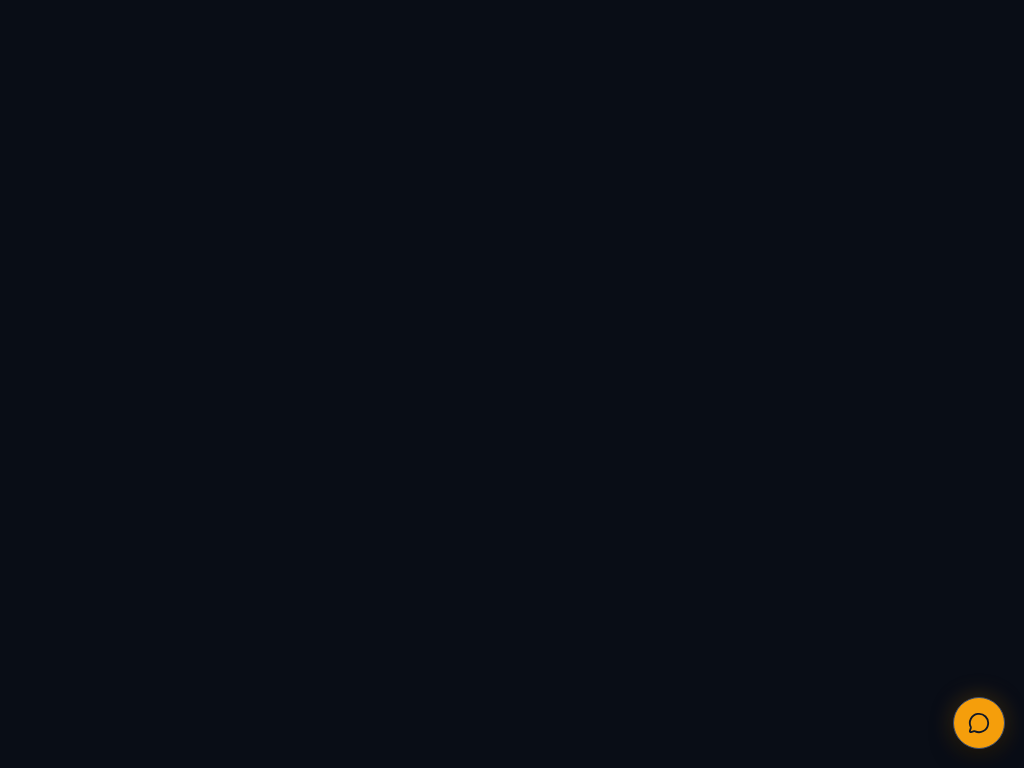
Test: AssistantWidget › posts thumbs up/down feedback with the conversationId and marks the choice
Click the button named "open assistant chat": click(979, 723) [953, 697, 1005, 749]
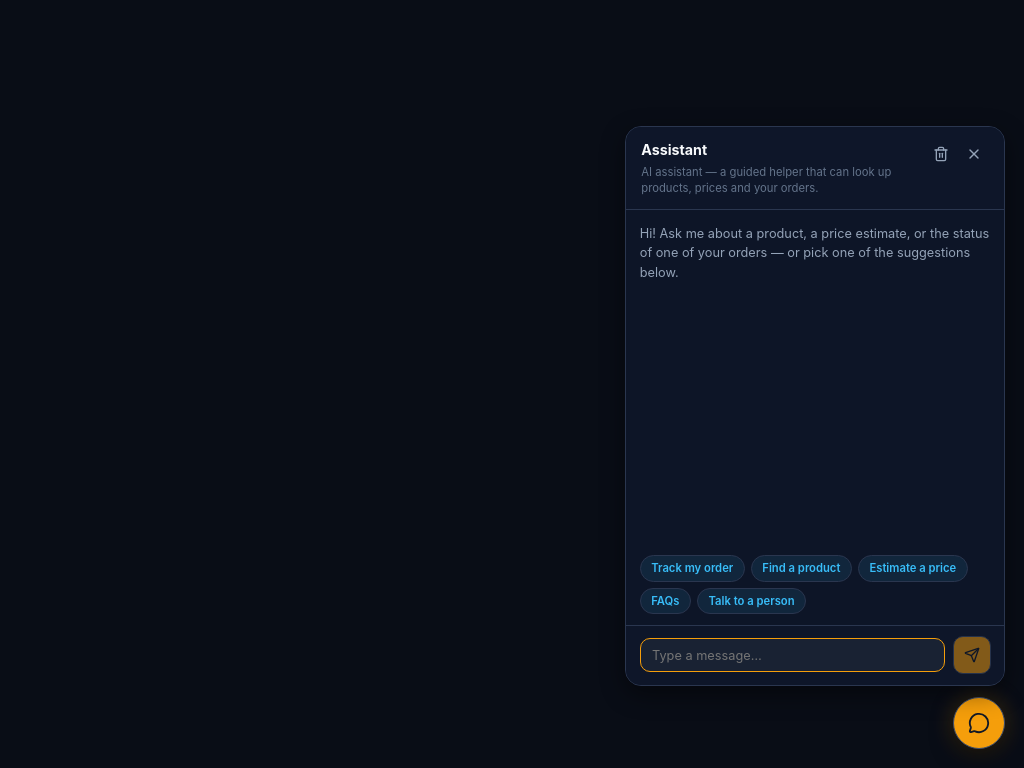
In the field named "message the assistant": (793, 655) [640, 638, 945, 672], type "Hello"
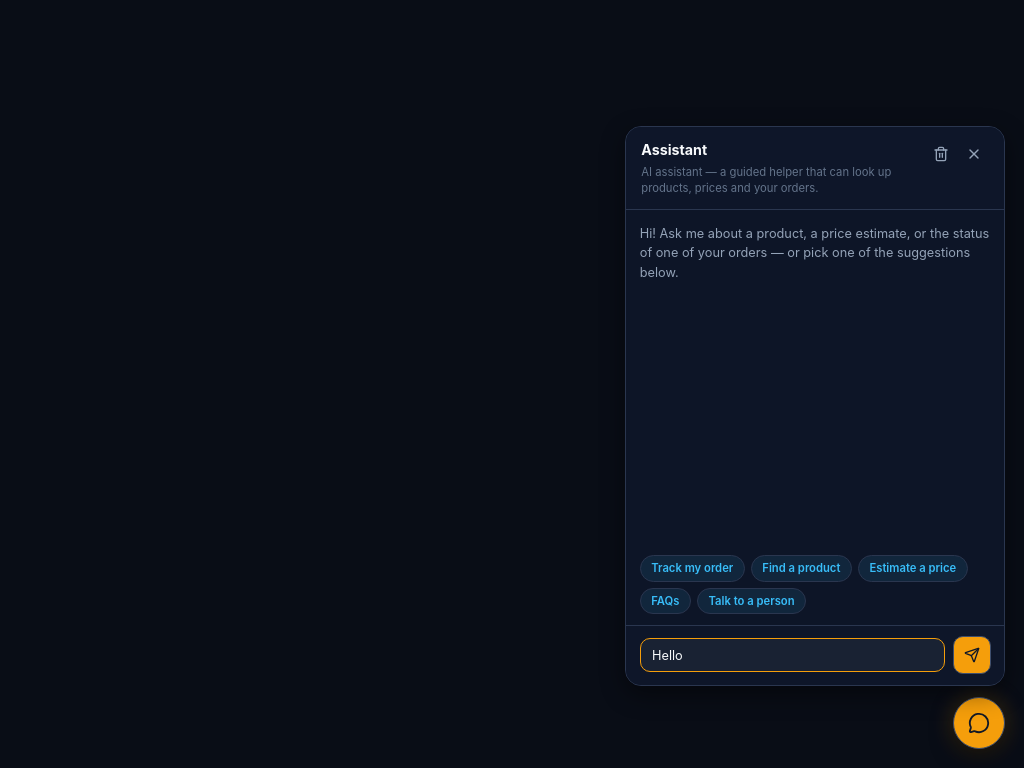
Click the button named "send message": click(972, 655) [953, 636, 991, 674]
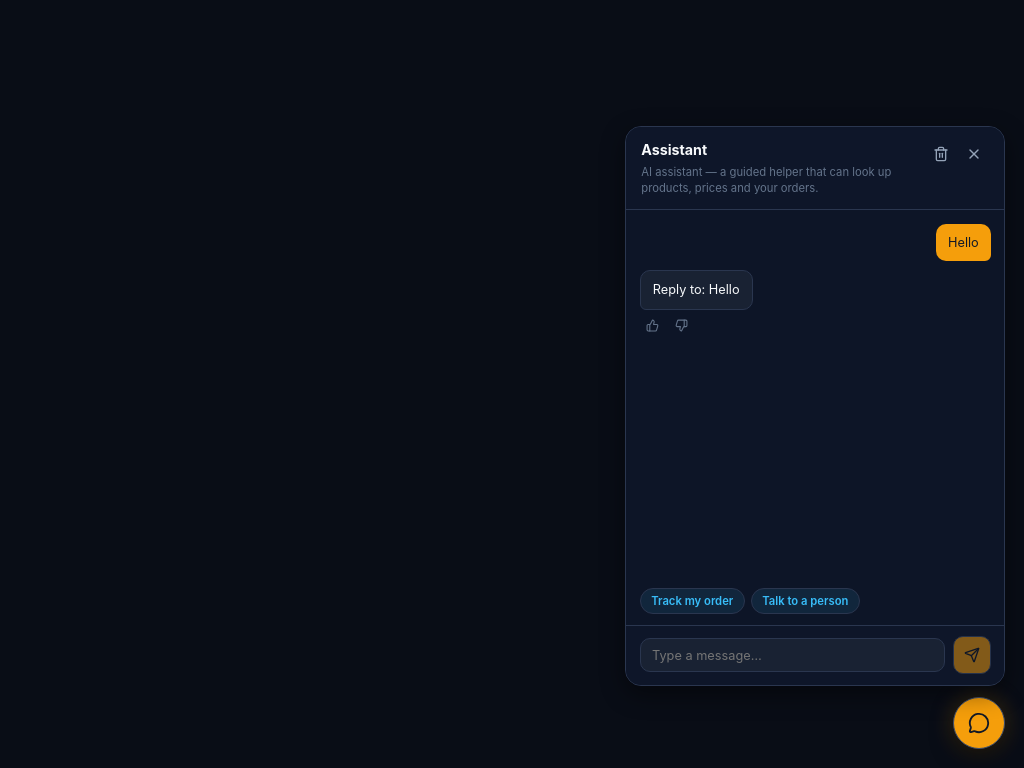
Click the button named "thumbs up": click(653, 326) [640, 312, 666, 338]
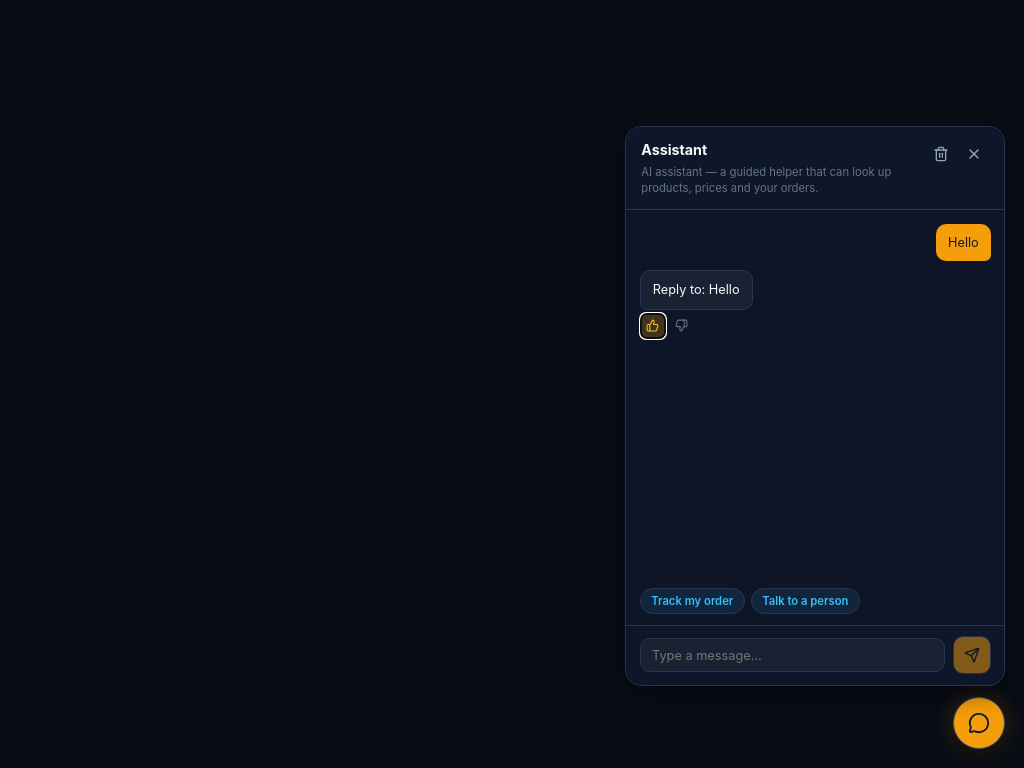
Expected: the button named "thumbs up" is pressed, [640, 312, 666, 338]
Click the button named "thumbs down": click(681, 326) [668, 312, 694, 338]
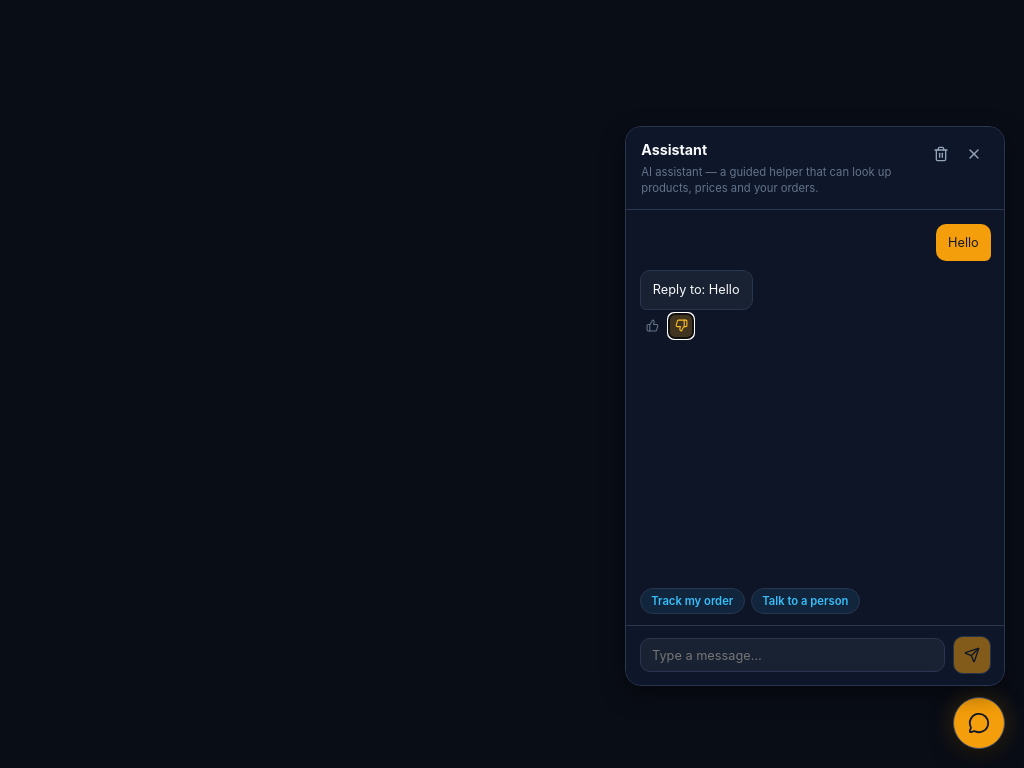
Expected: the button named "thumbs down" is pressed, [668, 312, 694, 338]
Expected: the button named "thumbs up" is not pressed, [640, 312, 666, 338]
